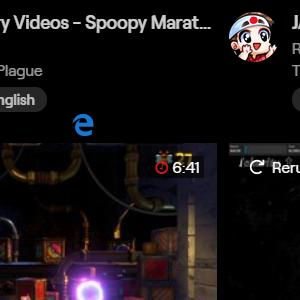edge: (72, 113, 93, 137)
